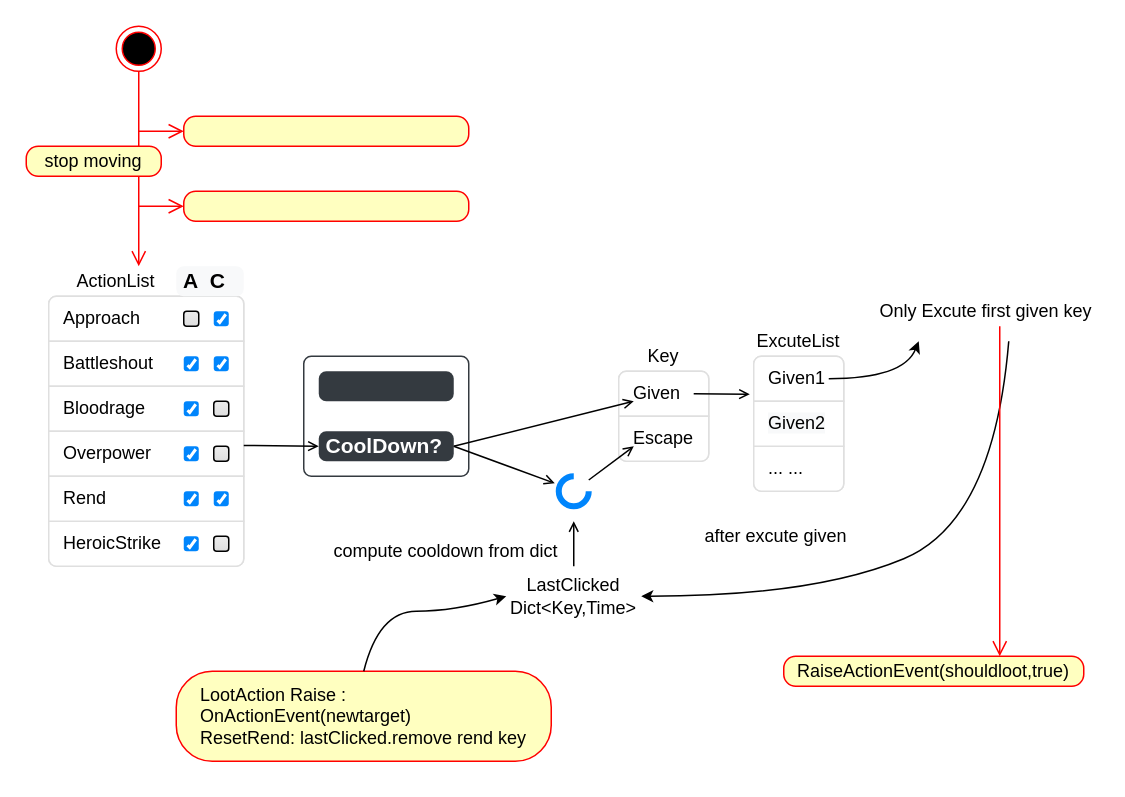
Some shapes in this 1125 by 797 pixel diagram are drawn without their labels. The shapes that lost their labels are listed below. From the top down, each one's centre as x and y in pixels, then its label:
At [325,130]: "If IsMounted { press MOUNT }".
At [325,205]: "RaiseActionEvent(fighting,true)".
At [385,385]: "ActionBar?".
